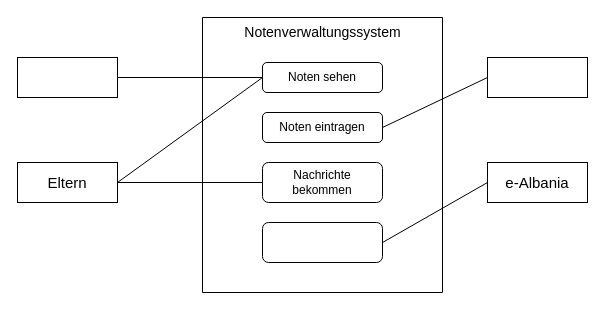
Some shapes in this 605 by 310 pixel diagram are drawn without their labels. Each missing label, with the centre of its shape:
Lehrer: [537,77]
Schüler: [67,77]
Synchronisation mit Schulsystem: [322,242]
